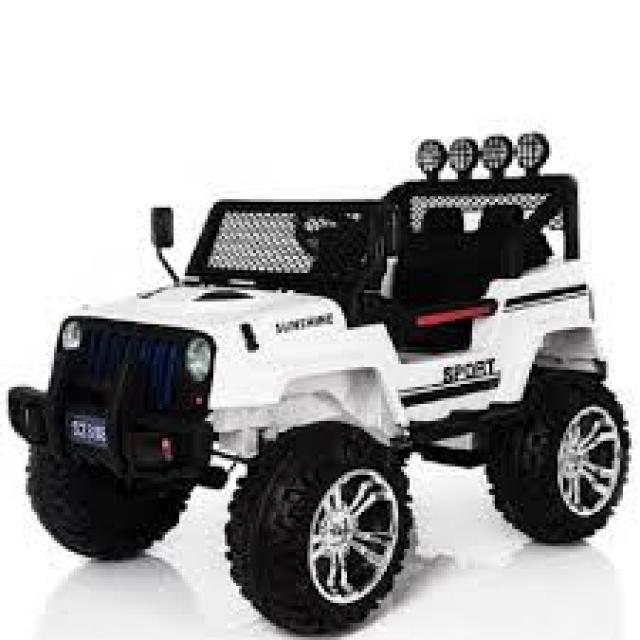Car: (6, 128, 632, 637)
